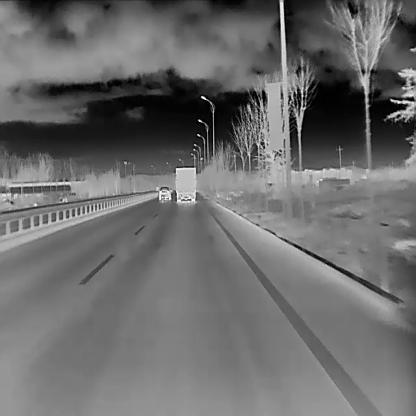car: (158, 185, 171, 200)
truck: (174, 166, 196, 202)
